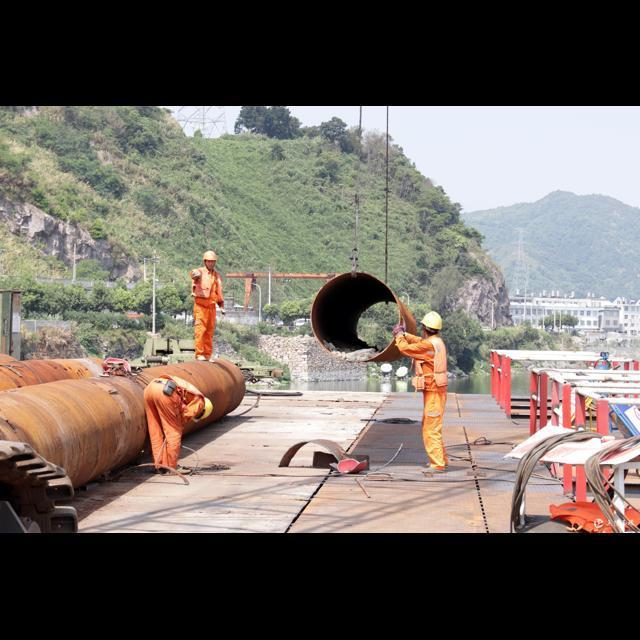helmet: (416, 300, 448, 336), (196, 382, 218, 427), (196, 242, 220, 270)
safety_vest: (396, 324, 457, 468), (134, 371, 197, 474), (186, 265, 226, 352)
